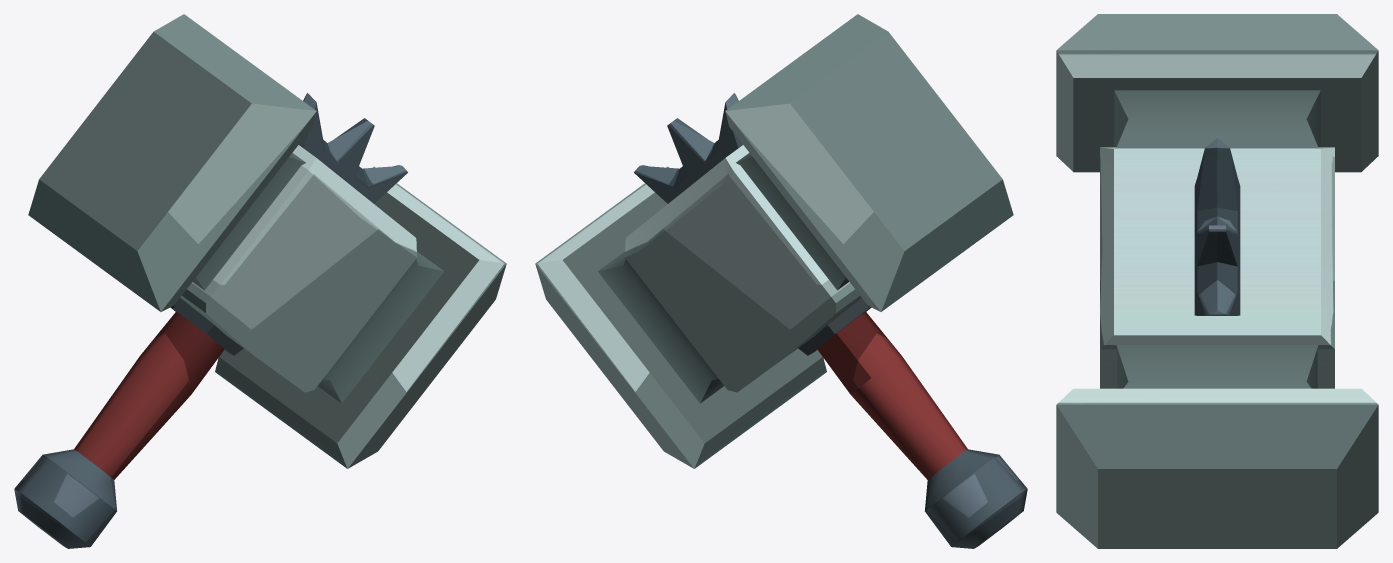
The model's file is Sharp_04.FBX.
3 renders of one model, left to right at view 1: azimuth 30°, elevation 25°; view 2: azimuth 150°, elevation 25°; view 3: azimuth 270°, elevation 25°, orthographic. The views are drawn at different scales.
Parts seen in each view (by area): view 1: Sharp_04; view 2: Sharp_04; view 3: Sharp_04.
Boxes of the visible parts, x1=… form: Sharp_04: x1=14, y1=14, x2=506, y2=548; Sharp_04: x1=535, y1=14, x2=1027, y2=548; Sharp_04: x1=1056, y1=14, x2=1378, y2=548.
Size of the model in its own units: 69.87 by 70.04 by 37.77.
